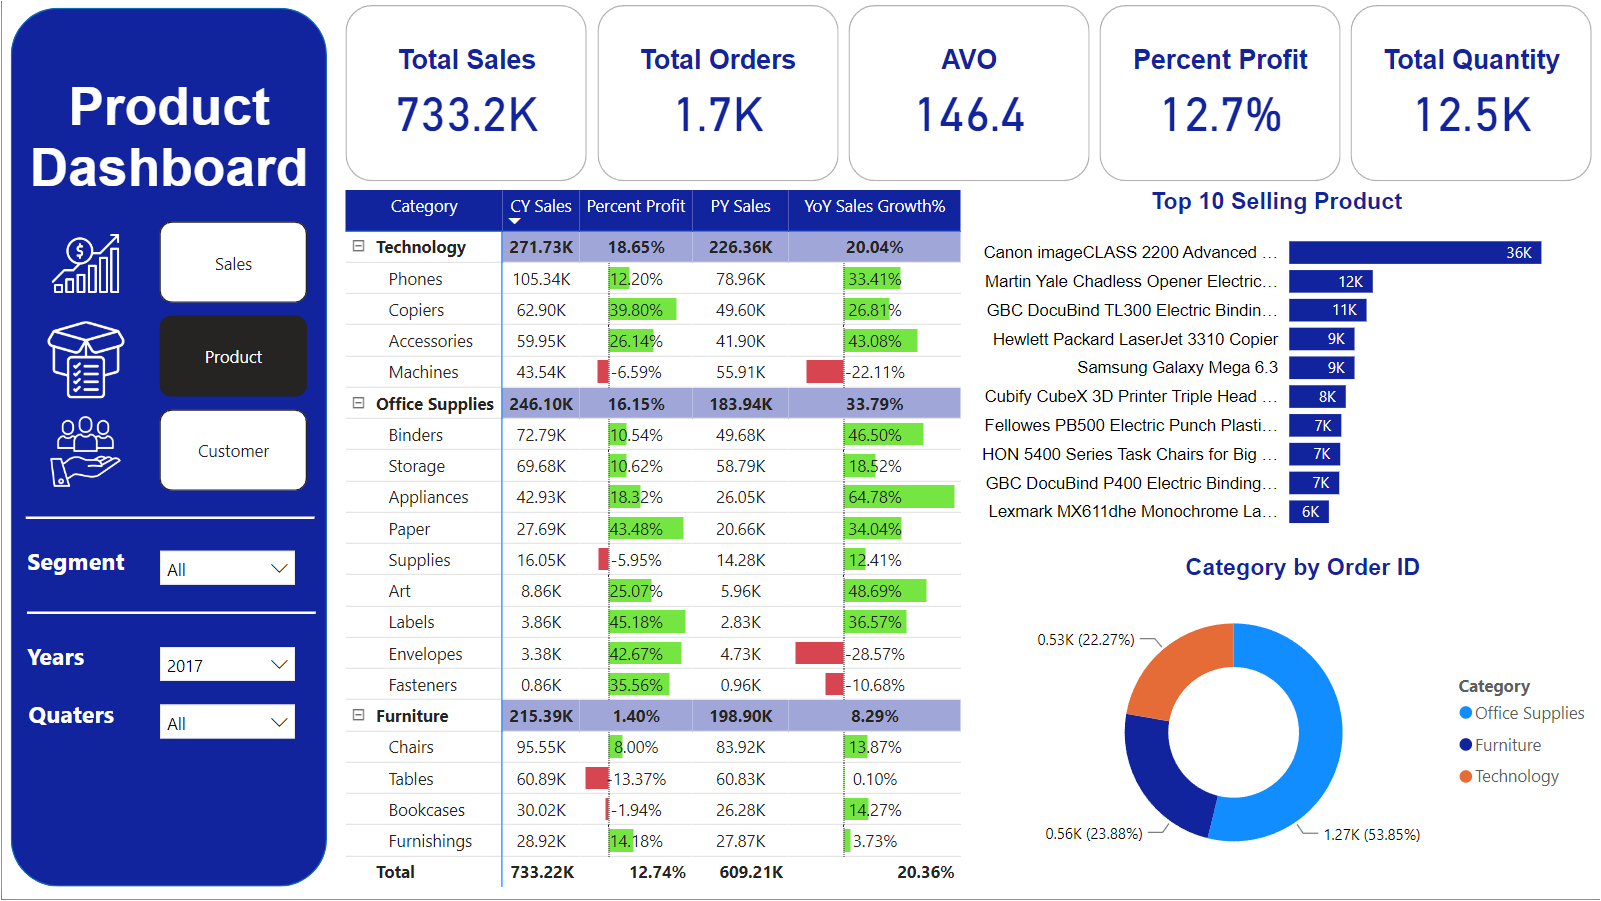

The dashboard page shown, as its layout file describes it:
{"tool":"powerbi","page":{"name":"Product","canvas":[1280,720],"ordinal":1},"visuals":[{"type":"shape","box":[7.2,7.2,252.4,702.5],"z":0},{"type":"textbox","box":[7.2,57.5,252.4,157.2],"z":1000},{"type":"cardVisual","fields":{"Data":["Sum(Fact_Sales.Sales)","AVO.Total Order","AVO.AVO","AVO.Percent Profit","Sum(Fact_Sales.Quantity)"]},"box":[270,0,1010,151.1],"z":2000},{"type":"donutChart","title":"Category by Order ID","fields":{"Category":["Dim_Product.Category"],"Y":["Count(Fact_Sales.Order ID)"]},"box":[801.1,444.4,478.9,264.4],"z":3000},{"type":"clusteredBarChart","title":"Top 10 Selling Product","fields":{"Y":["Sum(Fact_Sales.Sales)"],"Category":["Dim_Product.Product Name"]},"box":[766.7,151.1,505.6,283.3],"z":4000},{"type":"pivotTable","fields":{"Rows":["Dim_Product.Category","Dim_Product.Sub-Category"],"Values":["Main Measure.CY Sales","Main Measure.Percent Profit","Main Measure.PY Sales","Main Measure.YoY Sales Growth%"]},"box":[270,147.8,505.6,572.2],"z":5000},{"type":"shape","box":[18.9,398,230.9,34.1],"z":8000},{"type":"textbox","box":[115.9,325.1,110.5,42.2],"z":9000},{"type":"pageNavigator","box":[125.8,177.9,118.6,216.5],"z":10000},{"type":"image","box":[29.6,178,74.6,67.4],"z":11000},{"type":"image","box":[29.6,253.4,74.6,70.1],"z":12000},{"type":"image","box":[29.6,326.2,74.6,71.9],"z":13000},{"type":"slicer","fields":{"Values":["Calendar.Year"]},"box":[116,508,128,44],"z":13001},{"type":"textbox","box":[15.3,432.1,100.6,42.2],"z":13002},{"type":"slicer","fields":{"Values":["segment scores.Segment"]},"box":[116,431,128,45],"z":13003},{"type":"shape","box":[19.8,474.3,230.9,34.1],"z":13004},{"type":"textbox","box":[15,508,90,43],"z":13005},{"type":"textbox","box":[16,554,89,43],"z":13006},{"type":"slicer","fields":{"Values":["Calendar.Quater"]},"box":[116,554,128,45],"z":13007}]}

Visuals, with their boxes in screenshot pixels (x1, y1, x2, y2), scaled from the page's 1280x720 canvas onto the 1601x901 screenshot:
shape: 9:9:325:888
textbox: 9:72:325:269
cardVisual - Sum(Fact_Sales.Sales) x AVO.Total Order: 338:0:1600:189
"Category by Order ID" donutChart: 1002:556:1600:887
"Top 10 Selling Product" clusteredBarChart: 959:189:1591:544
pivotTable - Dim_Product.Category x Dim_Product.Sub-Category: 338:185:970:900
shape: 24:498:312:541
textbox: 145:407:283:460
pageNavigator: 157:223:306:494
image: 37:223:130:307
image: 37:317:130:405
image: 37:408:130:498
slicer - Calendar.Year: 145:636:305:691
textbox: 19:541:145:594
slicer - segment scores.Segment: 145:539:305:596
shape: 25:594:314:636
textbox: 19:636:131:690
textbox: 20:693:131:747
slicer - Calendar.Quater: 145:693:305:750
